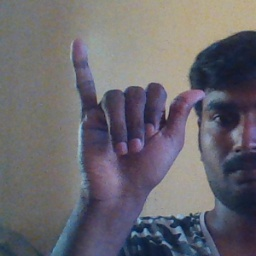J: (64, 35, 208, 195)
